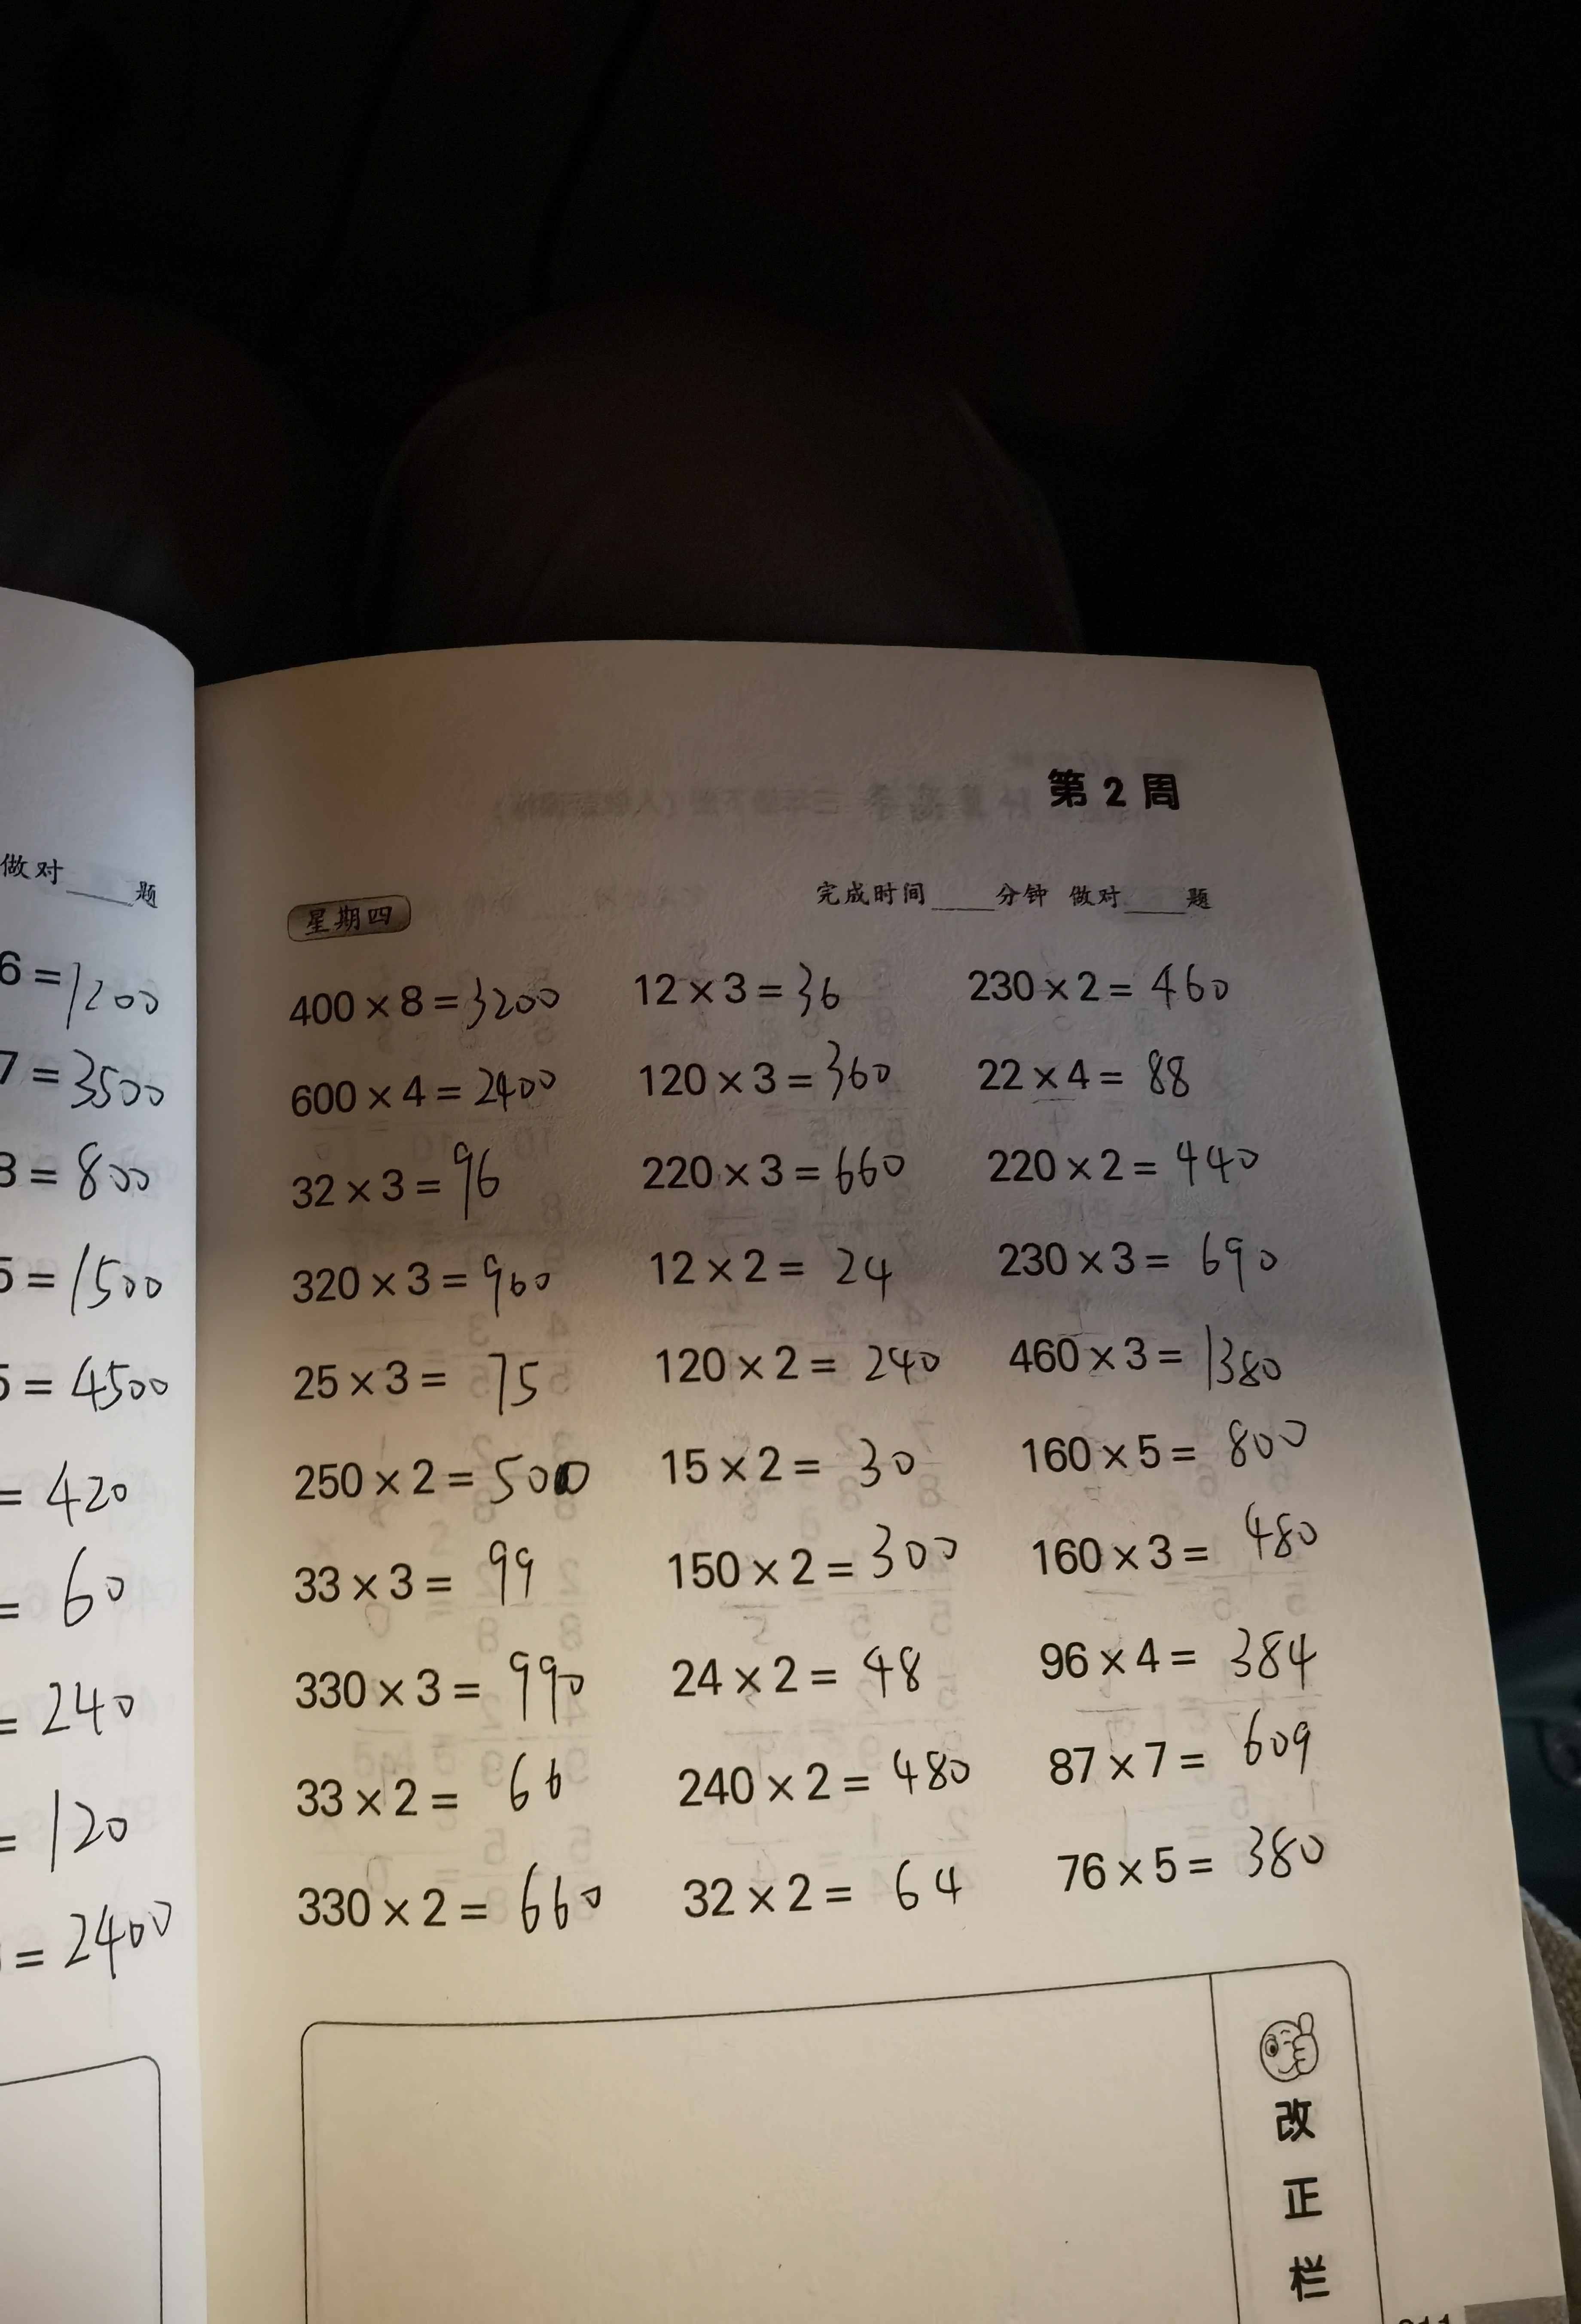equation: (279, 1851, 653, 1960), (646, 1323, 988, 1424), (660, 1511, 979, 1613), (1025, 1609, 1359, 1699), (667, 1735, 990, 1826), (281, 1648, 623, 1735), (1029, 1496, 1357, 1586), (635, 1216, 932, 1315), (1059, 1821, 1403, 1904), (653, 1627, 960, 1719), (671, 1849, 976, 1939), (653, 1431, 948, 1523), (282, 1443, 603, 1523), (1045, 1712, 1357, 1793), (997, 1315, 1309, 1394), (955, 937, 1260, 1018), (258, 1761, 618, 1830), (1018, 1413, 1330, 1488), (266, 963, 593, 1034), (281, 1541, 582, 1616), (630, 1133, 930, 1209), (279, 1140, 533, 1226), (983, 1138, 1330, 1200), (259, 1353, 573, 1417), (970, 1038, 1242, 1110), (981, 1225, 1290, 1288), (286, 1251, 565, 1318), (633, 1039, 900, 1101), (621, 960, 861, 1025), (279, 1066, 572, 1115)
